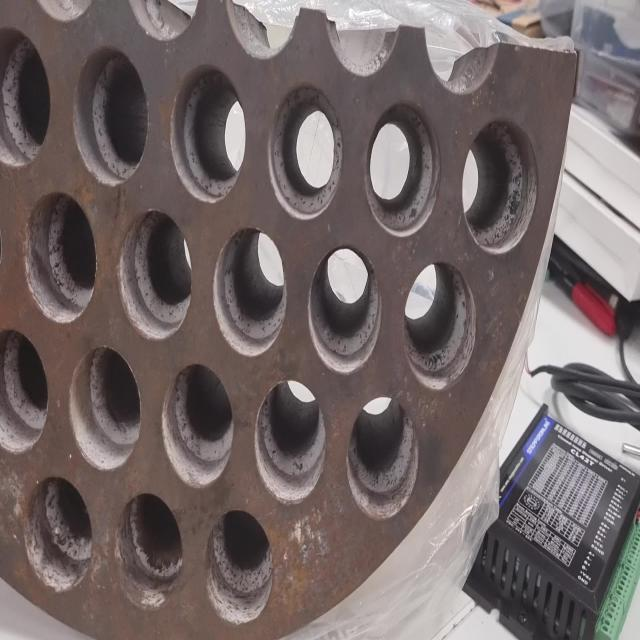Hole: (73, 45, 149, 186), (461, 118, 539, 255), (170, 64, 246, 204), (267, 82, 343, 220), (22, 190, 98, 324), (365, 101, 440, 236), (118, 208, 192, 340), (213, 225, 286, 356), (308, 244, 381, 374), (404, 260, 476, 390), (69, 343, 141, 471), (254, 378, 326, 506), (161, 362, 234, 488), (346, 395, 419, 520), (205, 506, 274, 626), (24, 472, 93, 592), (115, 490, 184, 610), (1, 25, 52, 169), (0, 327, 48, 455)
